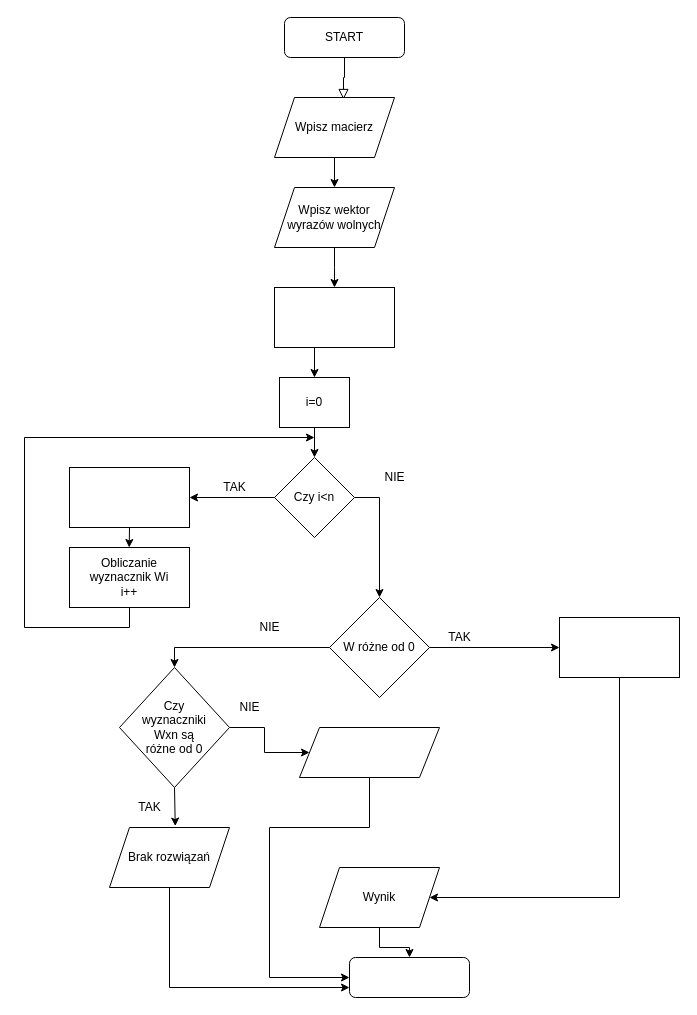
The diagram is 697 pixels wide and 1015 high, and some of its shapes have lost their labels. Here are the shapes that lost their labels. From the top down, the centre of each, then its label:
At point 334,317: "Obliczanie wyznacznik W".
At point 129,497: "Wi zamieniamy na wektor Wyrazów wspólnych".
At point 619,647: "Obliczamy rozwiązanie (zależnie od rozmiaru macierzy) np Wx/W".
At point 369,752: "Układ nieoznaczony".
At point 409,977: "Koniec".
